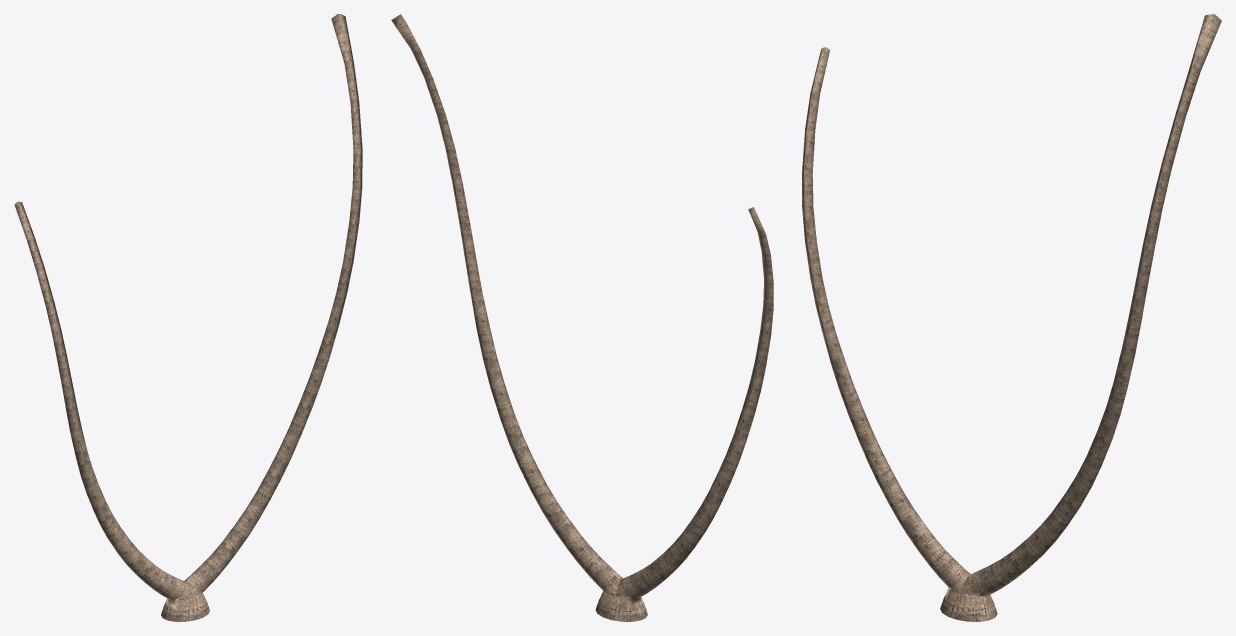
The model's file is m_palm_p2_16_trunk_0.glb.
The picture shows the model from 3 angles, left to right: view 1: azimuth 30°, elevation 25°; view 2: azimuth 150°, elevation 25°; view 3: azimuth 330°, elevation 25°; orthographic projection. The views are drawn at different scales.
Parts seen in each view (by area): view 1: M_Palm_P2_16_Trunk_0; view 2: M_Palm_P2_16_Trunk_0; view 3: M_Palm_P2_16_Trunk_0.
Part boxes in pixels (x1=…): M_Palm_P2_16_Trunk_0: x1=14, y1=14, x2=362, y2=621; M_Palm_P2_16_Trunk_0: x1=391, y1=14, x2=773, y2=621; M_Palm_P2_16_Trunk_0: x1=802, y1=14, x2=1221, y2=621.
Size of the model in its own units: 3.32 by 5.04 by 0.6939.
1 material, 1 textured.
